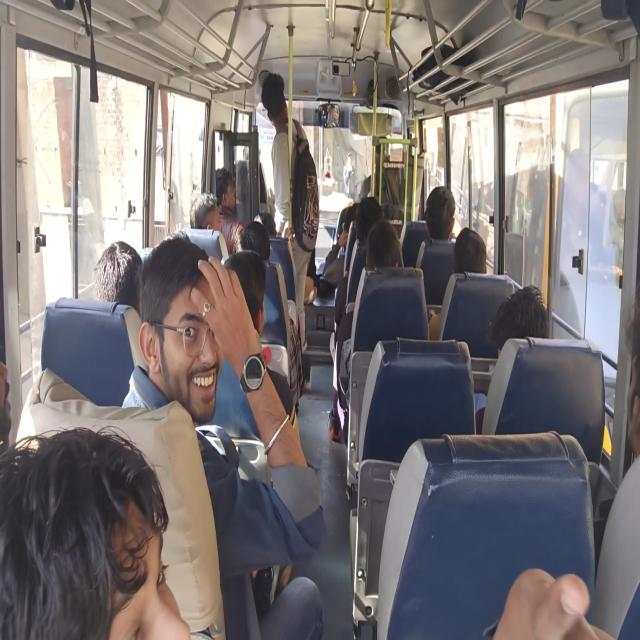person: (98, 484, 190, 640), (148, 256, 222, 401), (192, 258, 255, 374), (486, 284, 550, 354), (92, 240, 143, 308), (622, 276, 640, 466), (365, 217, 402, 272), (424, 185, 456, 243), (233, 224, 279, 256), (355, 196, 384, 244), (190, 190, 220, 231), (260, 71, 285, 117), (215, 170, 238, 213), (3, 381, 10, 406)
